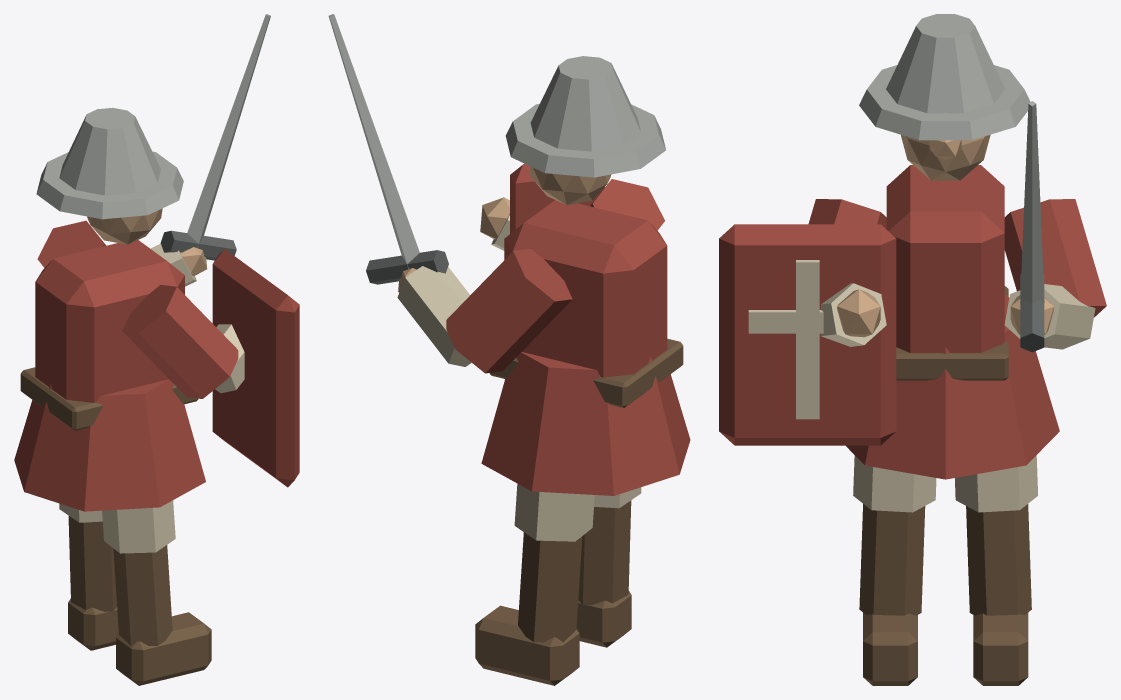
File: infantry_shield.glb
3 views of the same model, side by side, from view 1: azimuth 30°, elevation 25°; view 2: azimuth 150°, elevation 25°; view 3: azimuth 270°, elevation 25° (orthographic). The views are drawn at different scales.
Parts seen in each view (by area): view 1: infantry_shield_red, infantry_shield_leather, infantry_shield_steel, infantry_shield_linen, infantry_shield_skin, infantry_shield_iron; view 2: infantry_shield_red, infantry_shield_leather, infantry_shield_steel, infantry_shield_linen, infantry_shield_skin, infantry_shield_iron; view 3: infantry_shield_red, infantry_shield_leather, infantry_shield_steel, infantry_shield_linen, infantry_shield_skin, infantry_shield_iron.
Part boxes in pixels (box(x1,y1,x2,y2)): infantry_shield_red: box(14, 220, 299, 511); infantry_shield_leather: box(20, 367, 211, 685); infantry_shield_steel: box(36, 14, 270, 247); infantry_shield_linen: box(59, 243, 244, 553); infantry_shield_skin: box(87, 208, 207, 275); infantry_shield_iron: box(160, 230, 236, 260); infantry_shield_red: box(446, 163, 690, 495); infantry_shield_leather: box(475, 338, 683, 685); infantry_shield_steel: box(328, 14, 665, 268); infantry_shield_linen: box(397, 213, 641, 541); infantry_shield_skin: box(398, 166, 611, 292); infantry_shield_iron: box(366, 250, 448, 284); infantry_shield_red: box(719, 165, 1106, 479); infantry_shield_leather: box(859, 286, 1031, 685); infantry_shield_steel: box(859, 14, 1044, 302); infantry_shield_linen: box(748, 260, 1095, 512); infantry_shield_skin: box(837, 112, 1053, 337); infantry_shield_iron: box(1020, 274, 1044, 352).
Bounding box in the file's own units: 0.9594 × 1.84 × 0.9843.
